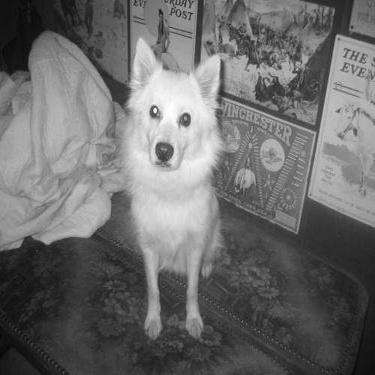dog: (108, 26, 238, 343)
